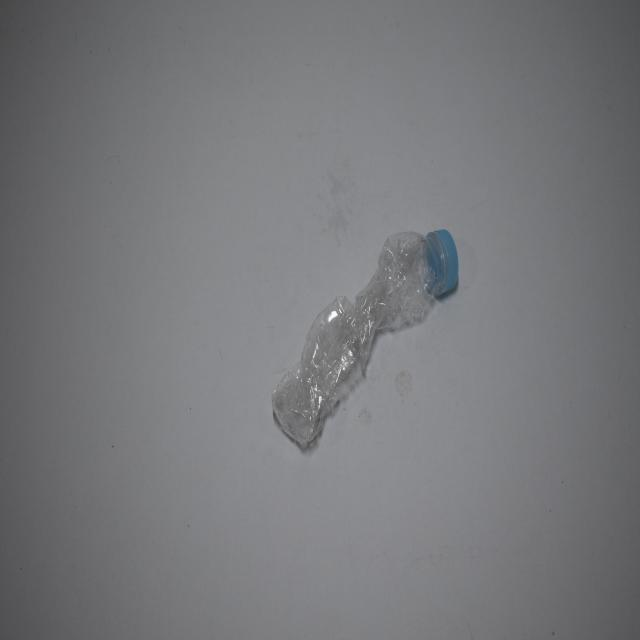bottle: (258, 197, 467, 453)
